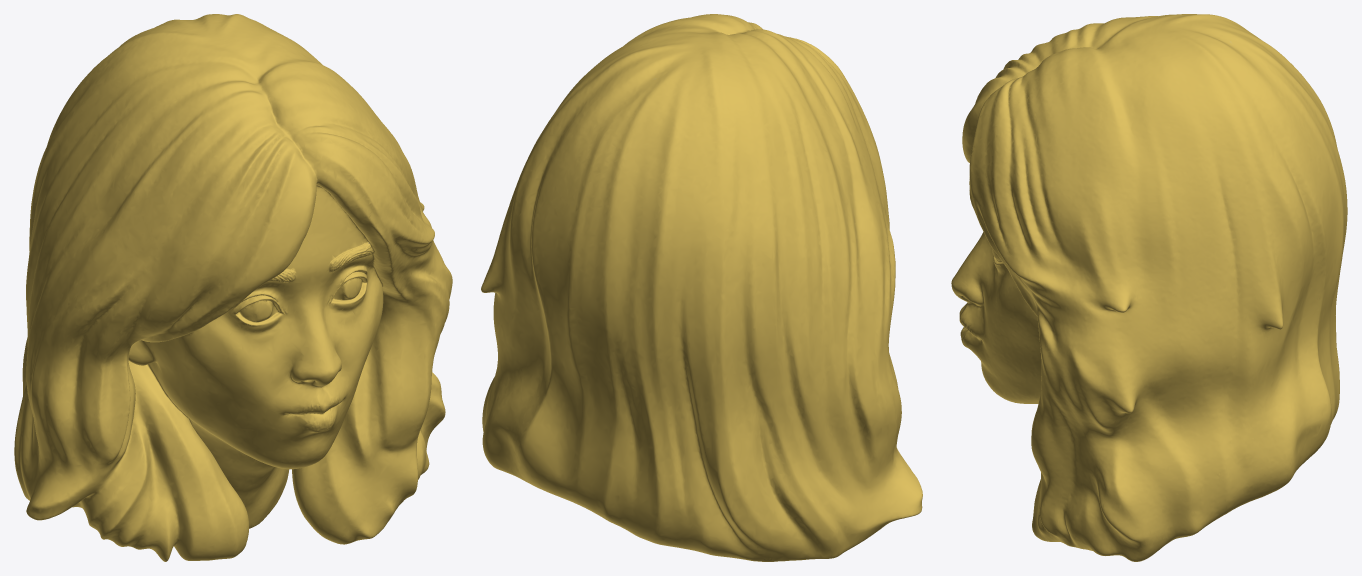
The model's file is Yuri_tmp.glb.
The picture shows the model from 3 angles, left to right: view 1: azimuth 30°, elevation 25°; view 2: azimuth 150°, elevation 25°; view 3: azimuth 270°, elevation 25°; orthographic projection. The views are drawn at different scales.
Bounding box in the file's own units: 1.54 × 1.75 × 1.33.
